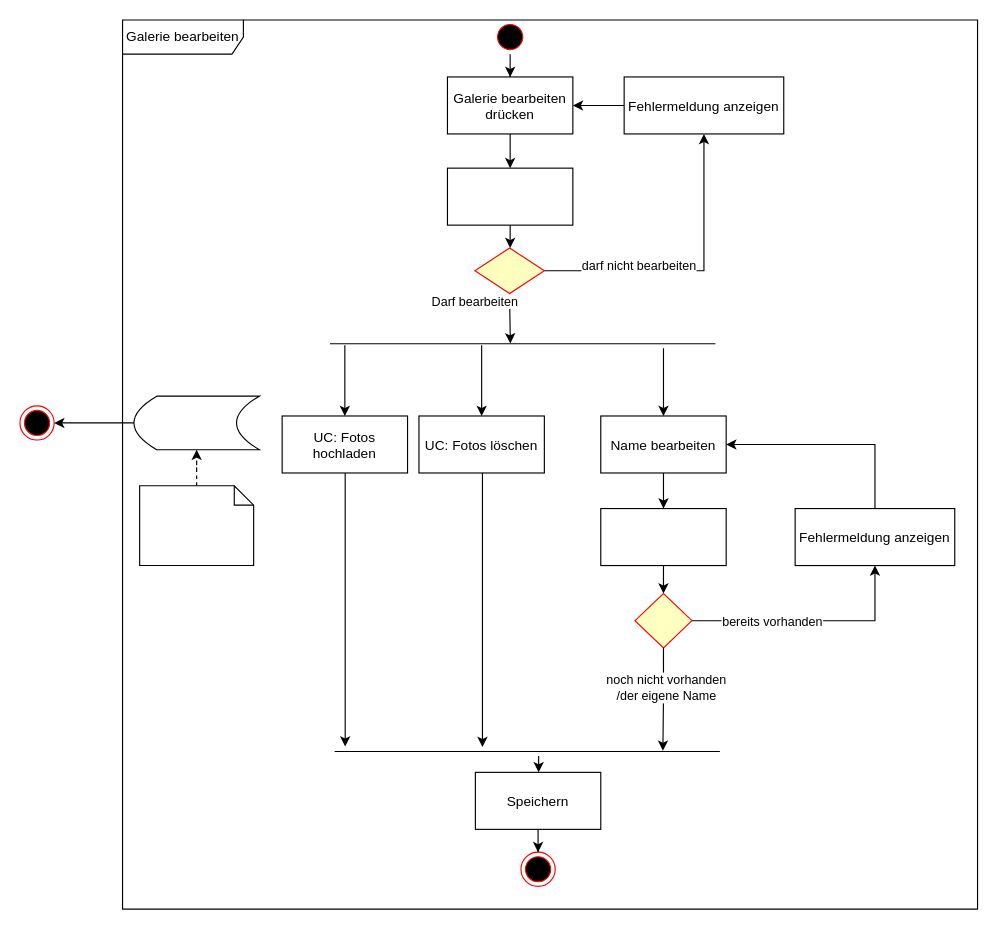
Some shapes in this 998 by 929 pixel diagram are drawn without their labels. Each missing label, with the centre of its shape:
Abbrechen: the point at 196,422
Man kann jederzeit die Aktivität abbrechen: the point at 196,525
Name validieren: the point at 663,536
Token/Benutzer validieren: the point at 509,196
